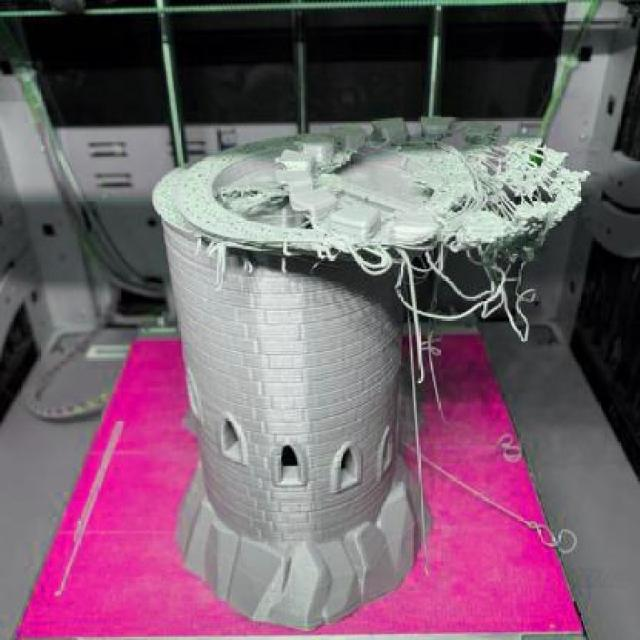Spaghetti: (349, 228, 549, 344)
